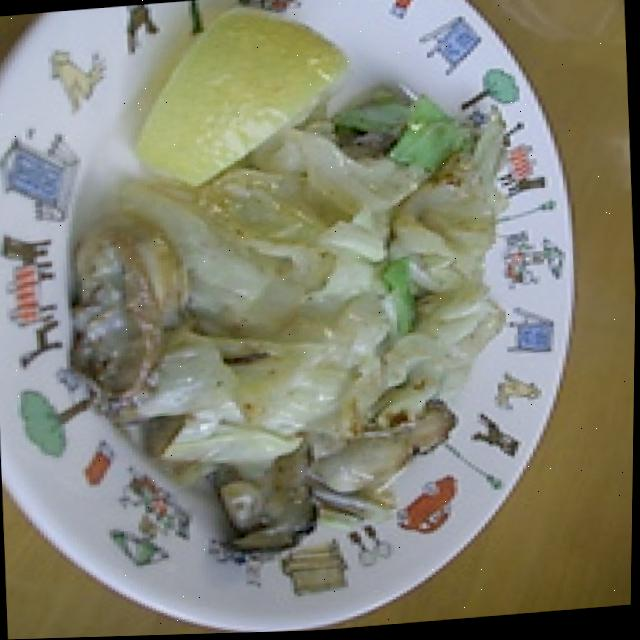蔬菜料理: (50, 0, 576, 575)
